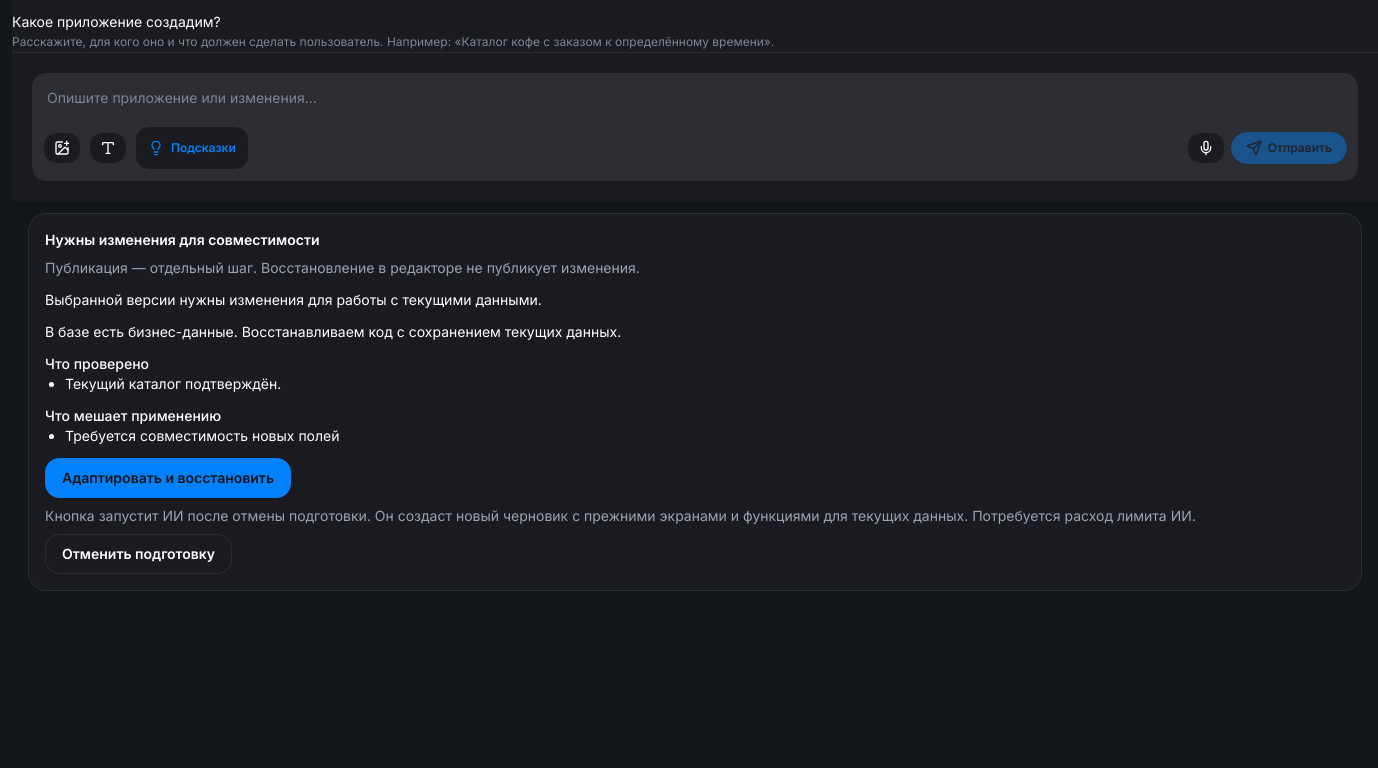
Test: keeps the saved intent when cancellation confirmation is error
What coordinates should you click on to do the following:
click the button "Адаптировать и восстановить"
I would click on:
 (168, 478)
Its box is left=45, top=458, right=291, bottom=498.
Wait 4000 ms
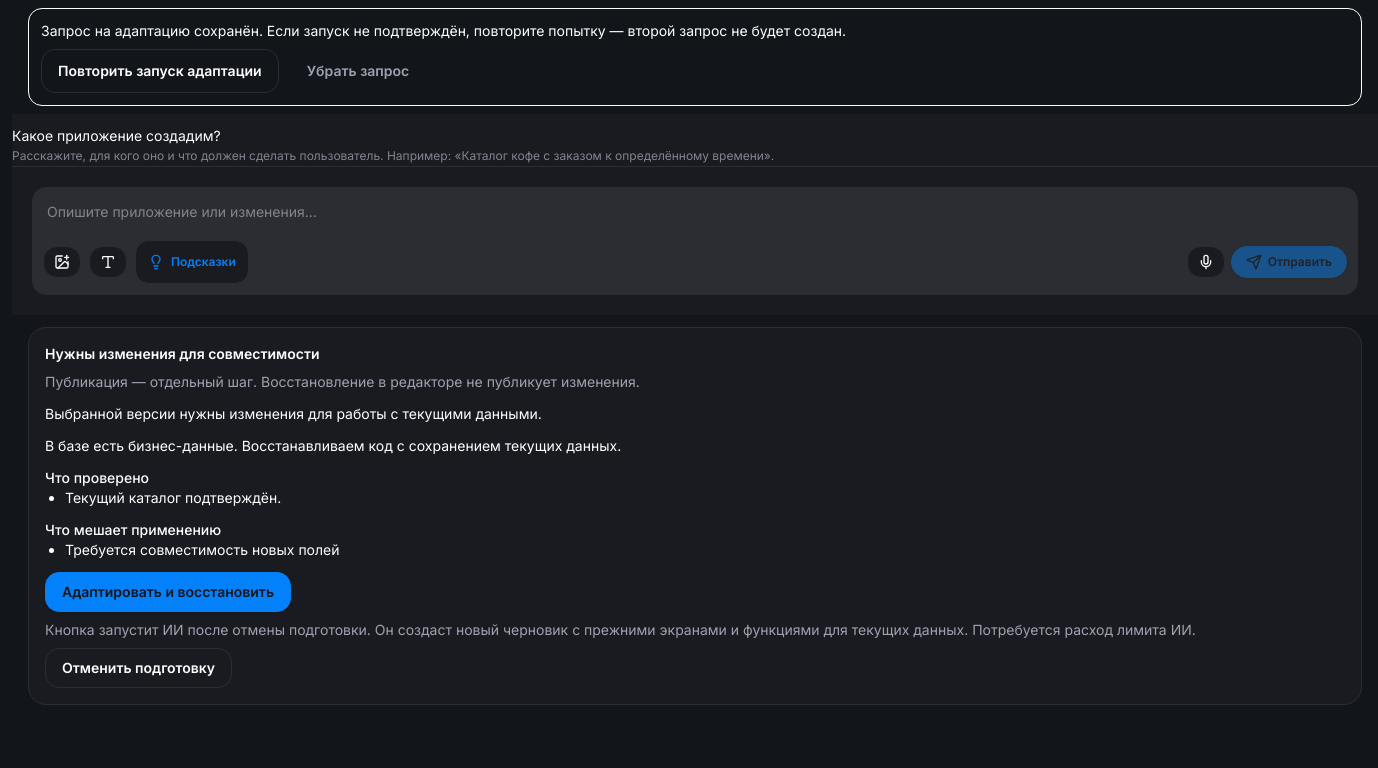
Expected: the button "Повторить запуск адаптации" is enabled, left=41, top=49, right=279, bottom=93
